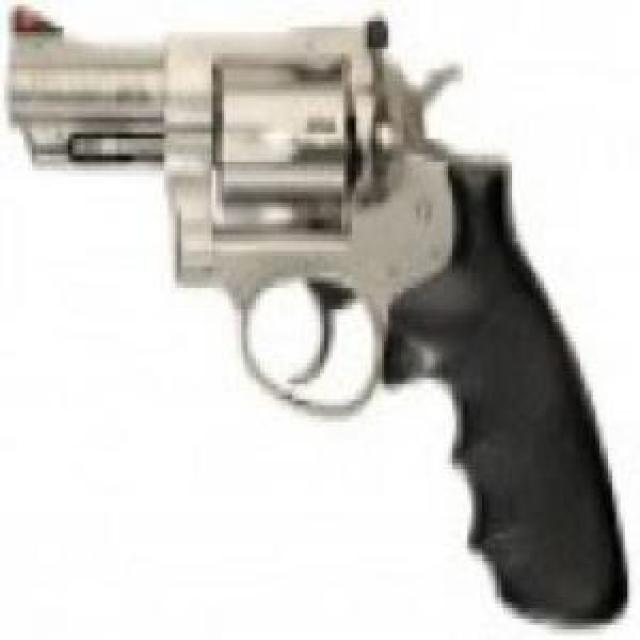pistol: (8, 6, 621, 625)
